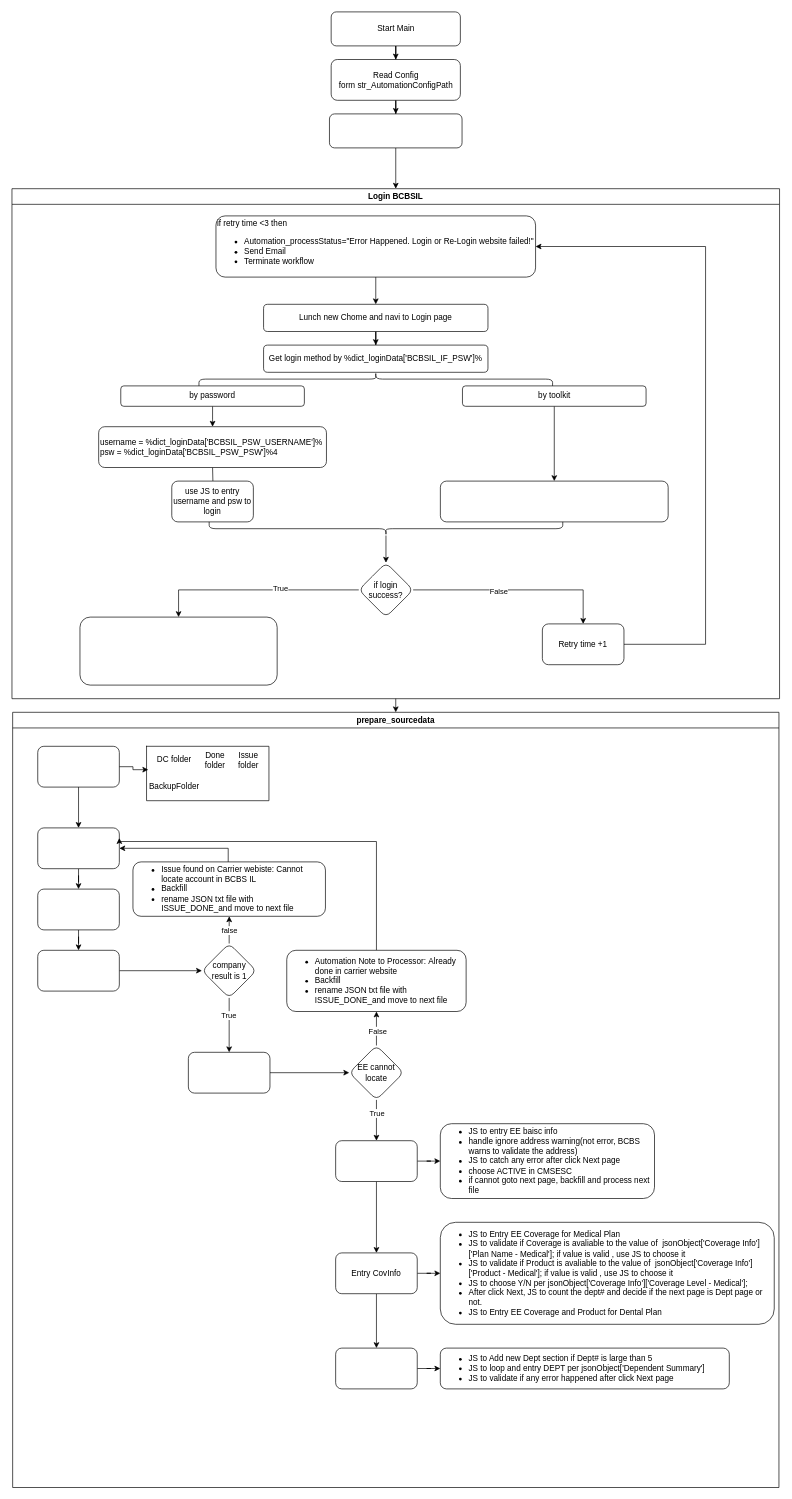
This 792x1499 diagram has some shape labels left out. Each missing label, with the centre of its shape:
"Entry dept" goes at (x=376, y=1368).
"Entry EE info" goes at (x=376, y=1161).
"get EE company info and locate company" goes at (x=78, y=970).
"Login Roboform click roboform entry BCBSIL_ROBO_CARRIER_NAME" goes at (x=554, y=501).
"Loop file in DC folder get all txt file without Done in name" goes at (x=78, y=848).
"Navigate to Group Search Page" goes at (x=178, y=650).
"Open Company and check EE enrollment Status" goes at (x=229, y=1072).
"Read config" goes at (x=78, y=766).
"read TXT file into JSON variable" goes at (x=78, y=909).
"Set email config" goes at (x=395, y=130).
